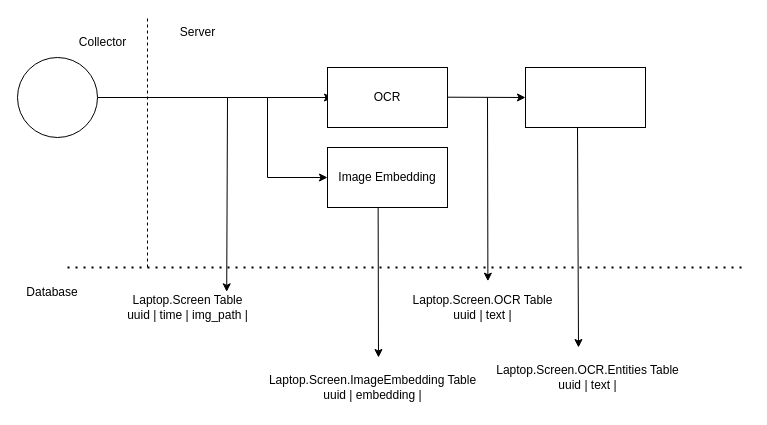
Image size: 767x425. Some labels were removed from this diagram. Here are the shapes that lost their labels. From the top down, the centre of each, then its label:
At (57,97): "Computer Screen".
At (585,97): "Named Entity Recognition".
